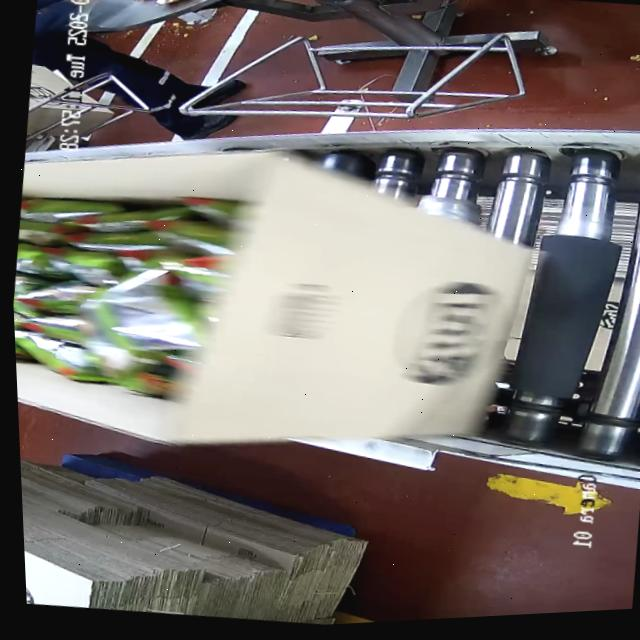YOGURT_HERB: (8, 173, 223, 398)
